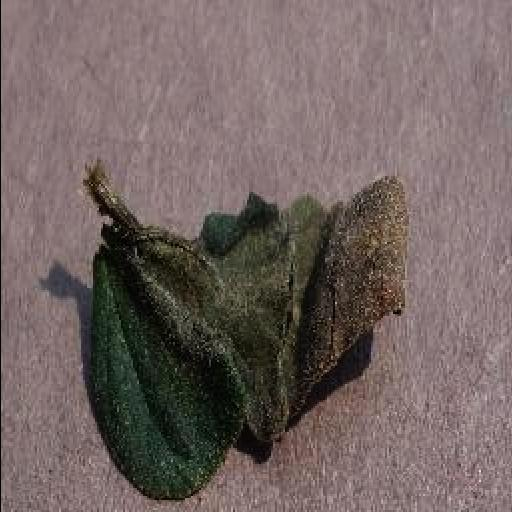disease_tomato: (80, 178, 414, 504)
